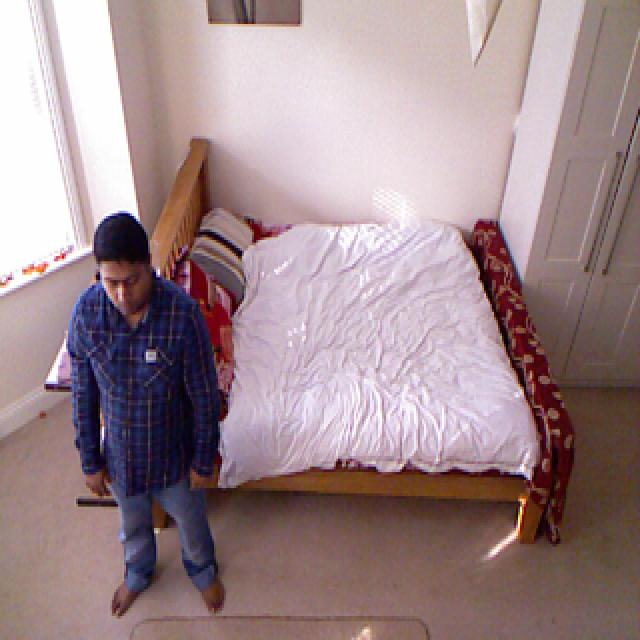standing: (67, 207, 226, 630)
